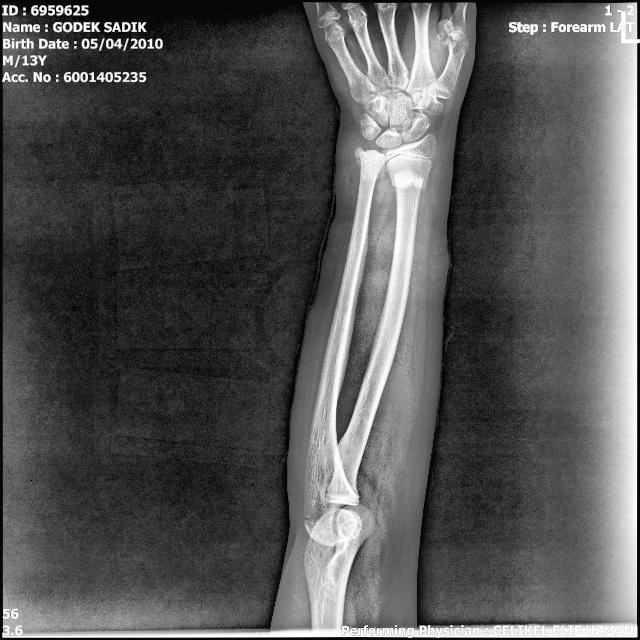Fracture: (292, 504, 320, 534)
